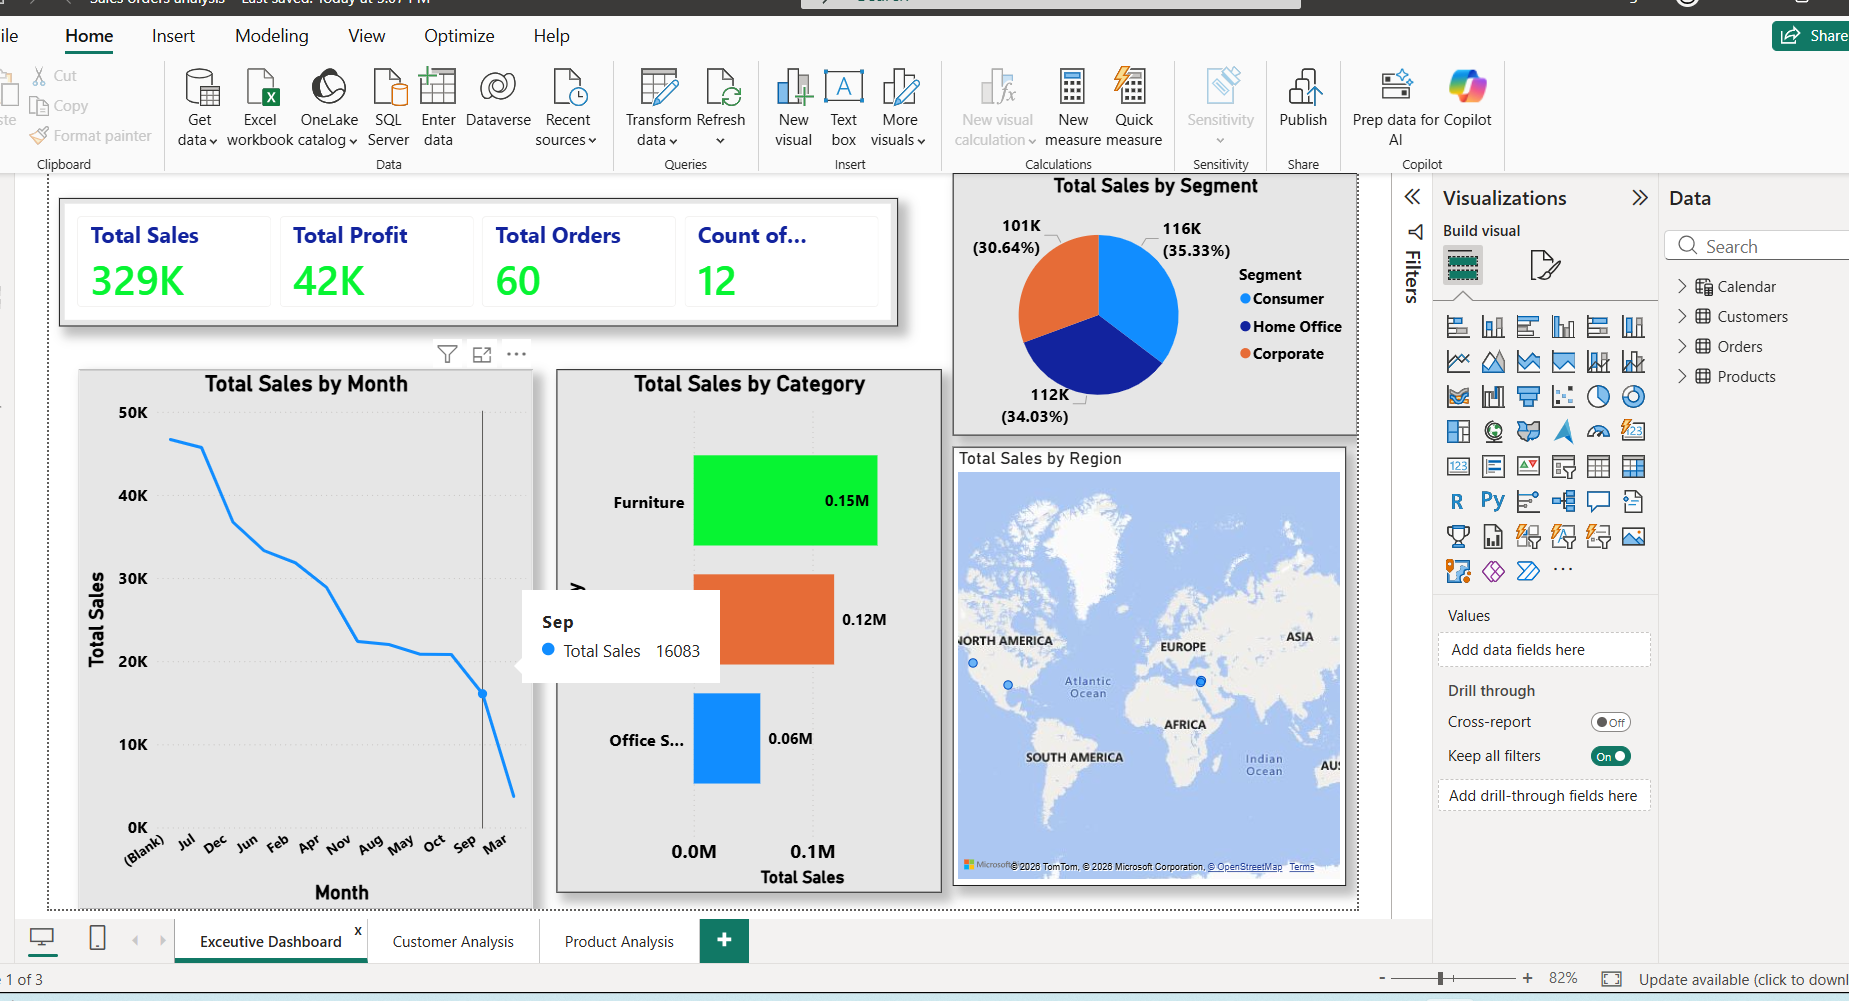

Layout of this report page (visuals, bound fields, positions):
{"tool":"powerbi","page":{"name":"Exceutive Dashboard","canvas":[1280,720],"ordinal":0},"visuals":[{"type":"cardVisual","fields":{"Data":["Customers.Total Sales","Customers.Total Profit","Customers.Total Orders","CountNonNull(Customers.Customer_Name)"]},"box":[9.8,24.5,820.5,126],"z":0},{"type":"lineChart","fields":{"Y":["Customers.Total Sales"],"Category":["Calendar.Month"]},"box":[29.3,192,443.9,528.3],"z":1000},{"type":"clusteredBarChart","fields":{"Y":["Customers.Total Sales"],"Category":["Products.Category"]},"box":[496.5,192,376.6,512.4],"z":2000},{"type":"map","fields":{"Y":["Customers.Total Sales"],"Category":["Customers.Region"]},"box":[884.1,267.8,385.2,429.2],"z":3000},{"type":"pieChart","fields":{"Category":["Customers.Segment"],"Y":["Customers.Total Sales"]},"box":[884.1,0,396.2,256.8],"z":4000}]}

Visuals, with their boxes on the page's 1280x720 design canvas (x1, y1, x2, y2). These are canvas units, not pixel positions in the 1849x1001 screenshot, which may show the page scaled, cropped or inside an application window:
cardVisual - Customers.Total Sales x Customers.Total Profit: box(10, 24, 830, 150)
lineChart - Customers.Total Sales x Calendar.Month: box(29, 192, 473, 720)
clusteredBarChart - Customers.Total Sales x Products.Category: box(496, 192, 873, 704)
map - Customers.Total Sales x Customers.Region: box(884, 268, 1269, 697)
pieChart - Customers.Segment x Customers.Total Sales: box(884, 0, 1280, 257)
